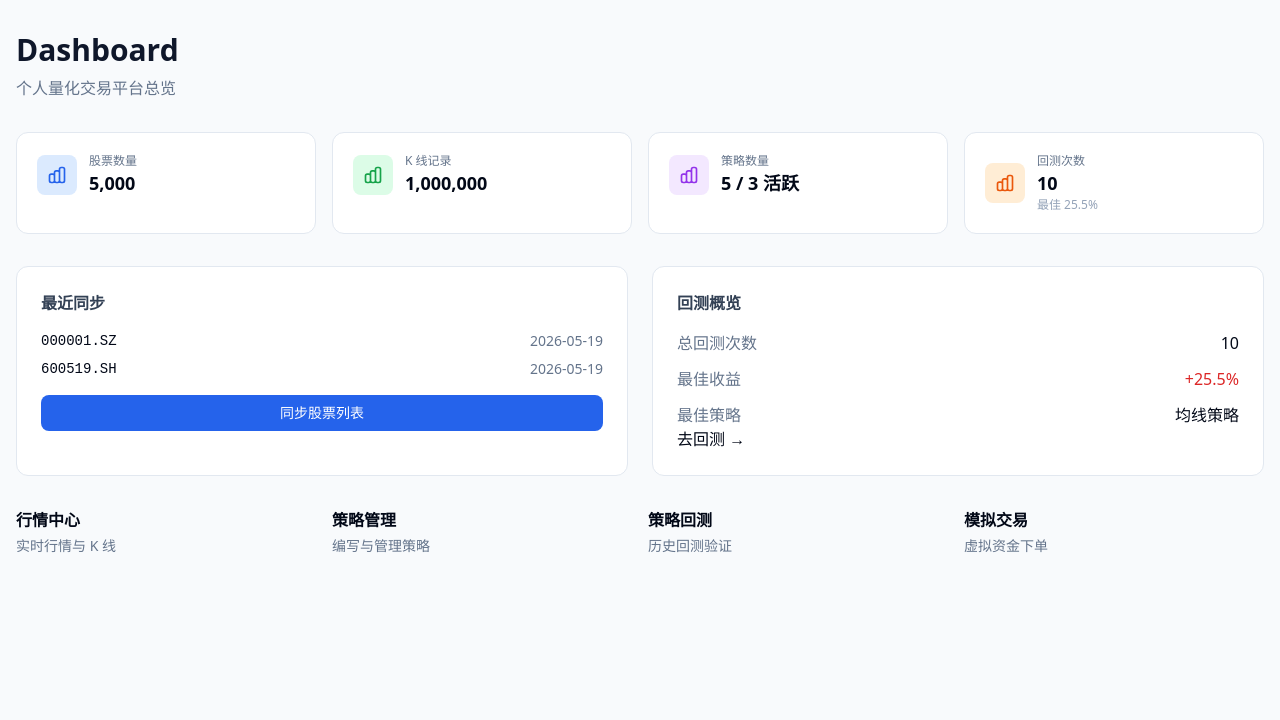
Scenario: Home page (Dashboard) › handles sync button click
The image size is (1280, 720).
Click the button "同步股票列表" at (322, 413), box [41,395,603,431]
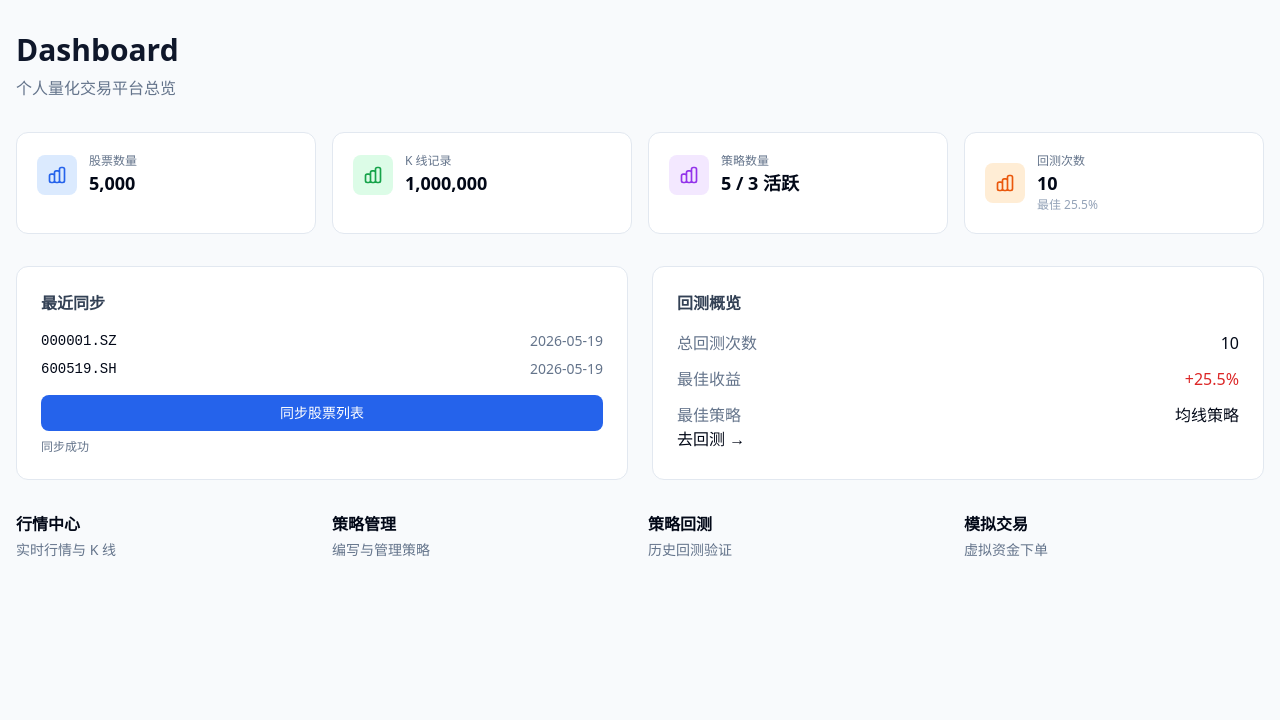
expect the text "同步成功" is shown: met, box [41,438,89,455]
